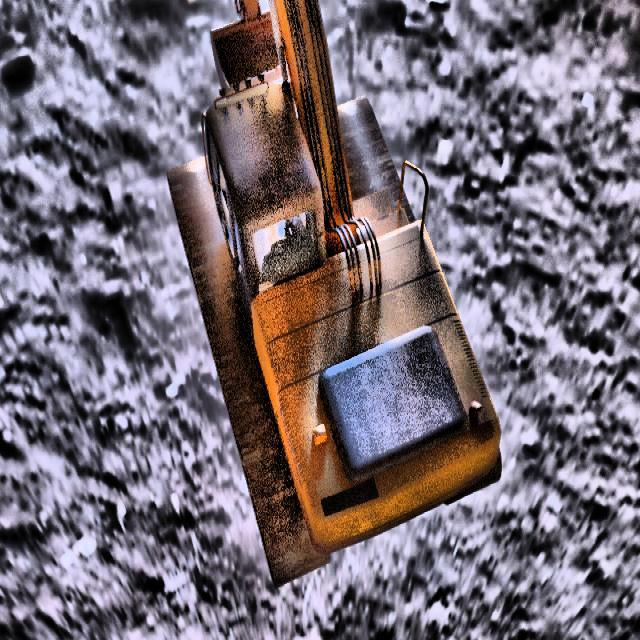excavator: (166, 0, 502, 589)
